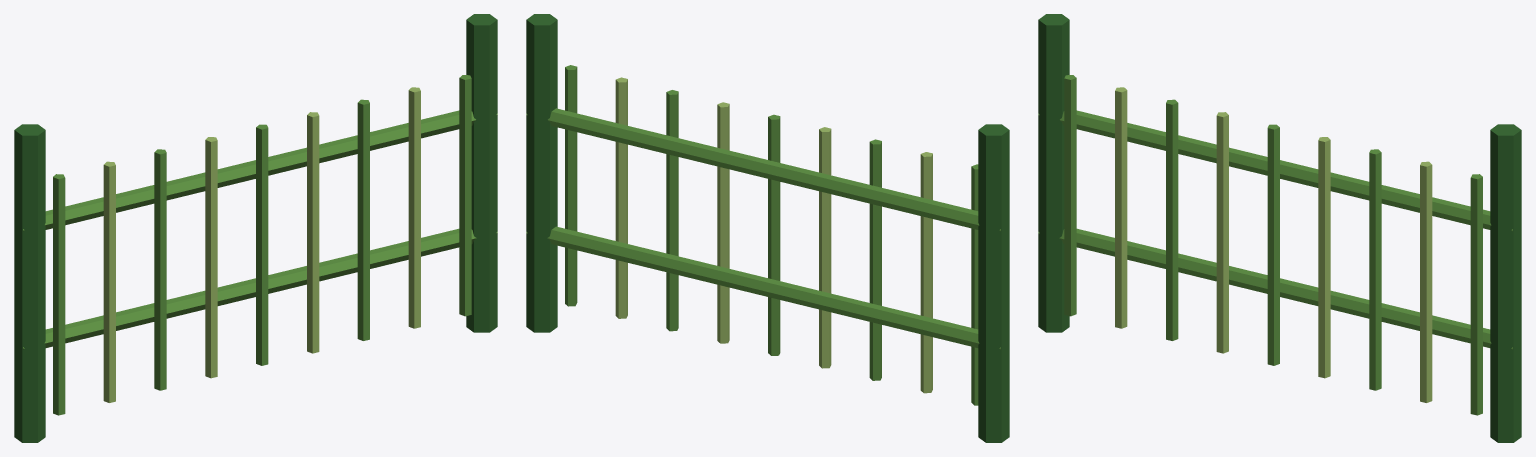
Rendered from fence_bamboo.glb.
The picture shows the model from 3 angles, left to right: view 1: azimuth 30°, elevation 25°; view 2: azimuth 150°, elevation 25°; view 3: azimuth 330°, elevation 25°; orthographic projection.
Visible parts, largest first — view 1: Fence; view 2: Fence; view 3: Fence.
Part boxes in pixels (x1=…): Fence: x1=14, y1=14, x2=497, y2=442; Fence: x1=526, y1=14, x2=1009, y2=442; Fence: x1=1038, y1=14, x2=1521, y2=442.
Size of what is drawn, in the model's own units: 2.1 by 1.3 by 0.1302.
